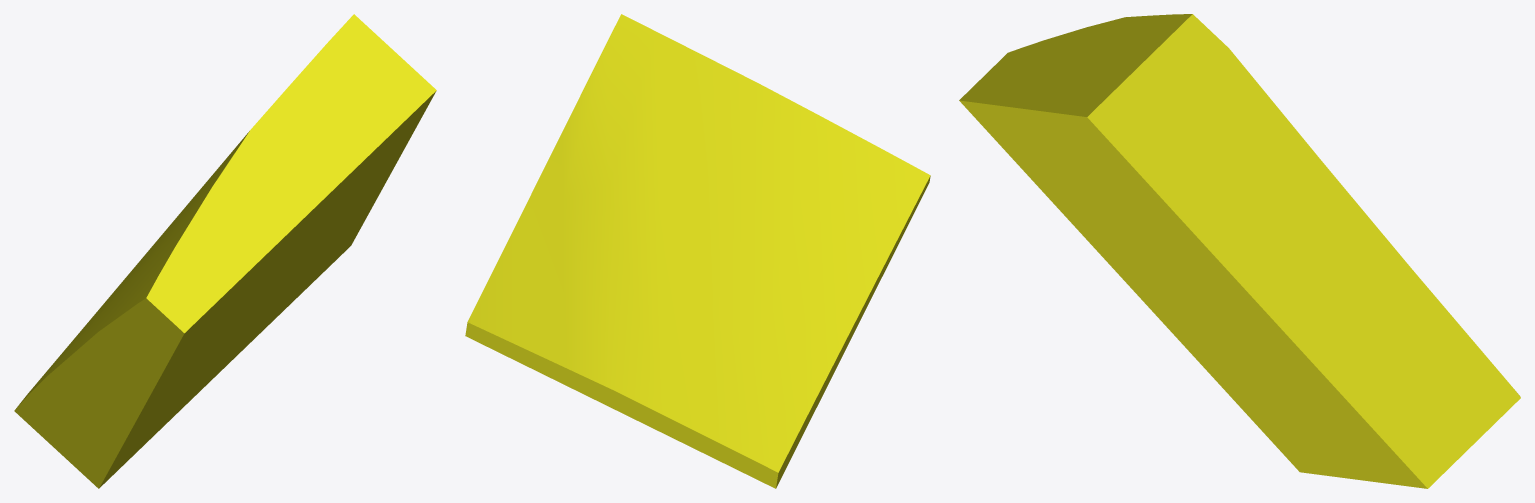
3 views of the same model, side by side, from view 1: azimuth 30°, elevation 25°; view 2: azimuth 150°, elevation 25°; view 3: azimuth 270°, elevation 25° (orthographic). The views are drawn at different scales.
Parts seen in each view (by area): view 1: CubeShape.001; view 2: CubeShape.001; view 3: CubeShape.001.
Part boxes in pixels (bbox=[...]): CubeShape.001: bbox=[14, 14, 436, 488]; CubeShape.001: bbox=[465, 14, 930, 488]; CubeShape.001: bbox=[959, 14, 1520, 488].
Bounding box in the file's own units: 109 × 129 × 110.
